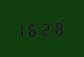eight: (54, 19, 65, 35)
one: (18, 21, 29, 37)
six: (30, 20, 41, 37)
two: (42, 19, 53, 36)
